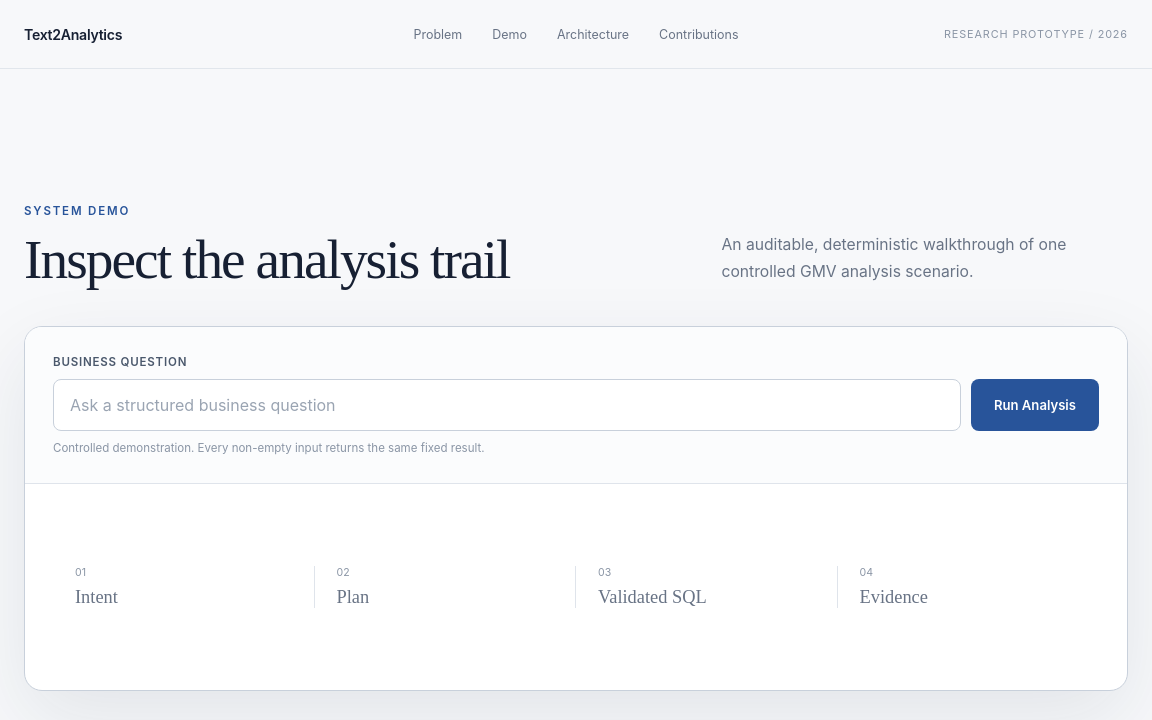
Text2Analytics portfolio page › requires a non-empty business question
The image size is (1152, 720).
(page scrolled)
Step 1. Click the button "Run Analysis" → (1035, 405), box x1=971 y1=379 x2=1099 y2=431
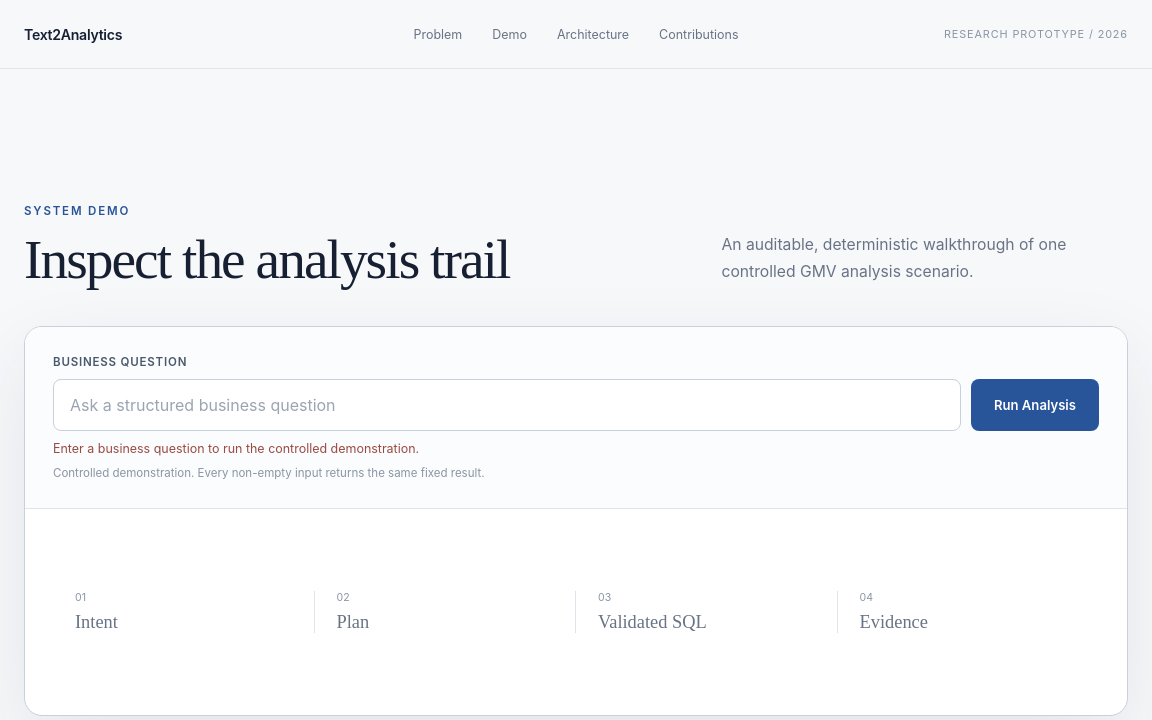
Expected: the text "Enter a business question to run the controlled demonstration." is shown, x1=53 y1=441 x2=419 y2=456
